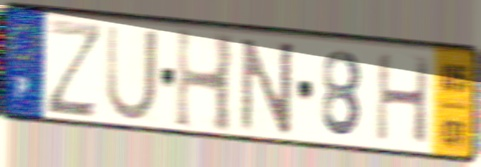8: (320, 48, 364, 139)
H: (172, 24, 237, 137), (373, 50, 433, 147)
N: (238, 35, 297, 136)
U: (104, 22, 161, 125)
Z: (44, 16, 106, 120)
